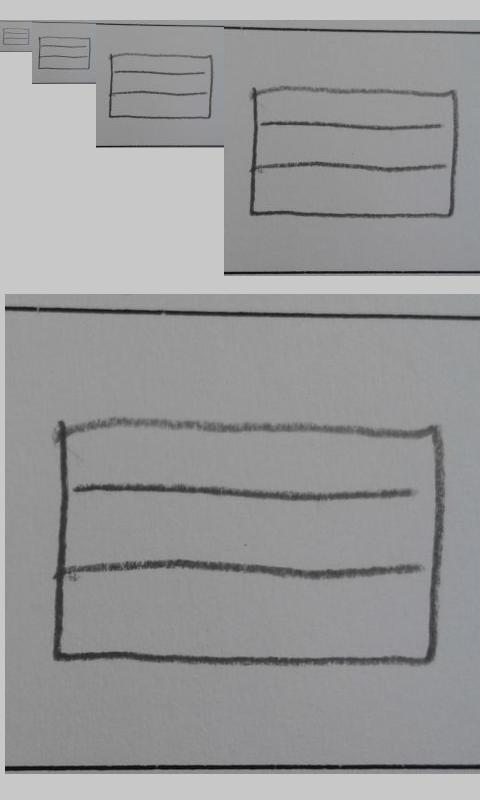list_view: (50, 416, 448, 675), (248, 85, 459, 221), (108, 52, 215, 121), (38, 36, 91, 71), (2, 27, 30, 46)
